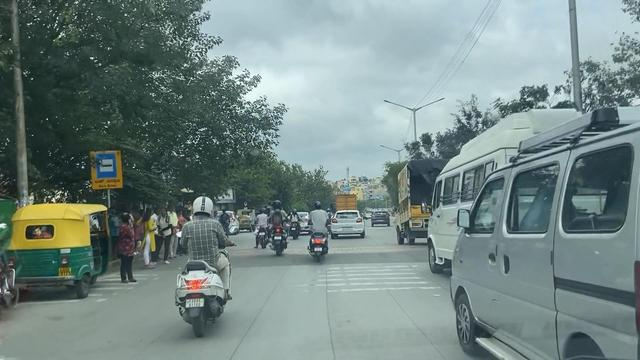LMV: (454, 159, 640, 360), (11, 207, 106, 299), (180, 195, 234, 335)
